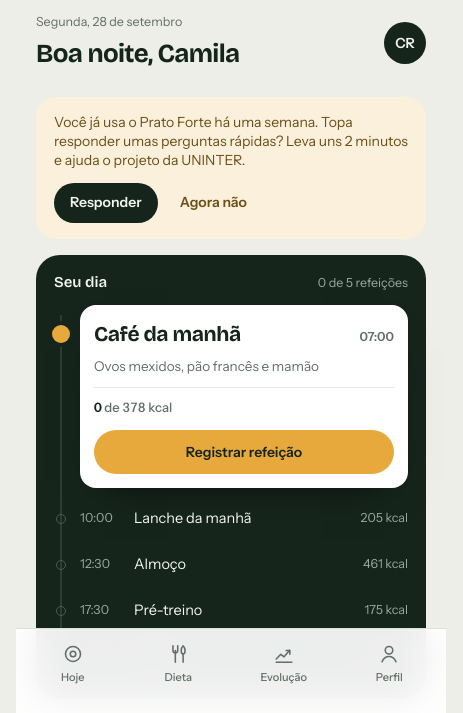
it: Hoje (S11) › convite do questionário aparece quando elegível e "Agora não" some com ele (CA04)
Click the button "Agora não".
click(213, 202)  # box [166,182,261,222]
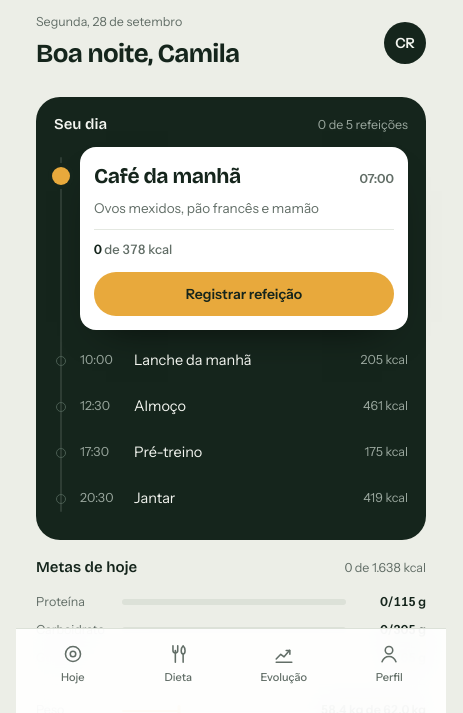
Expected: the text "Você já usa o Prato Forte há uma semana." is gone
